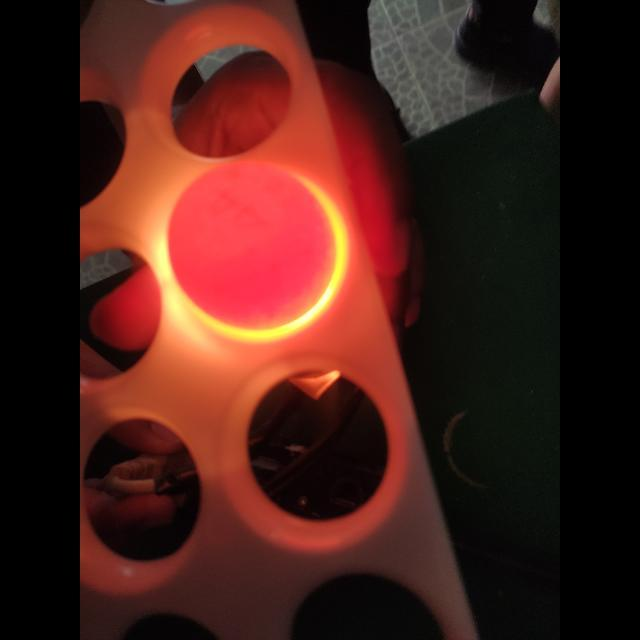Infertile: (170, 159, 334, 323)
